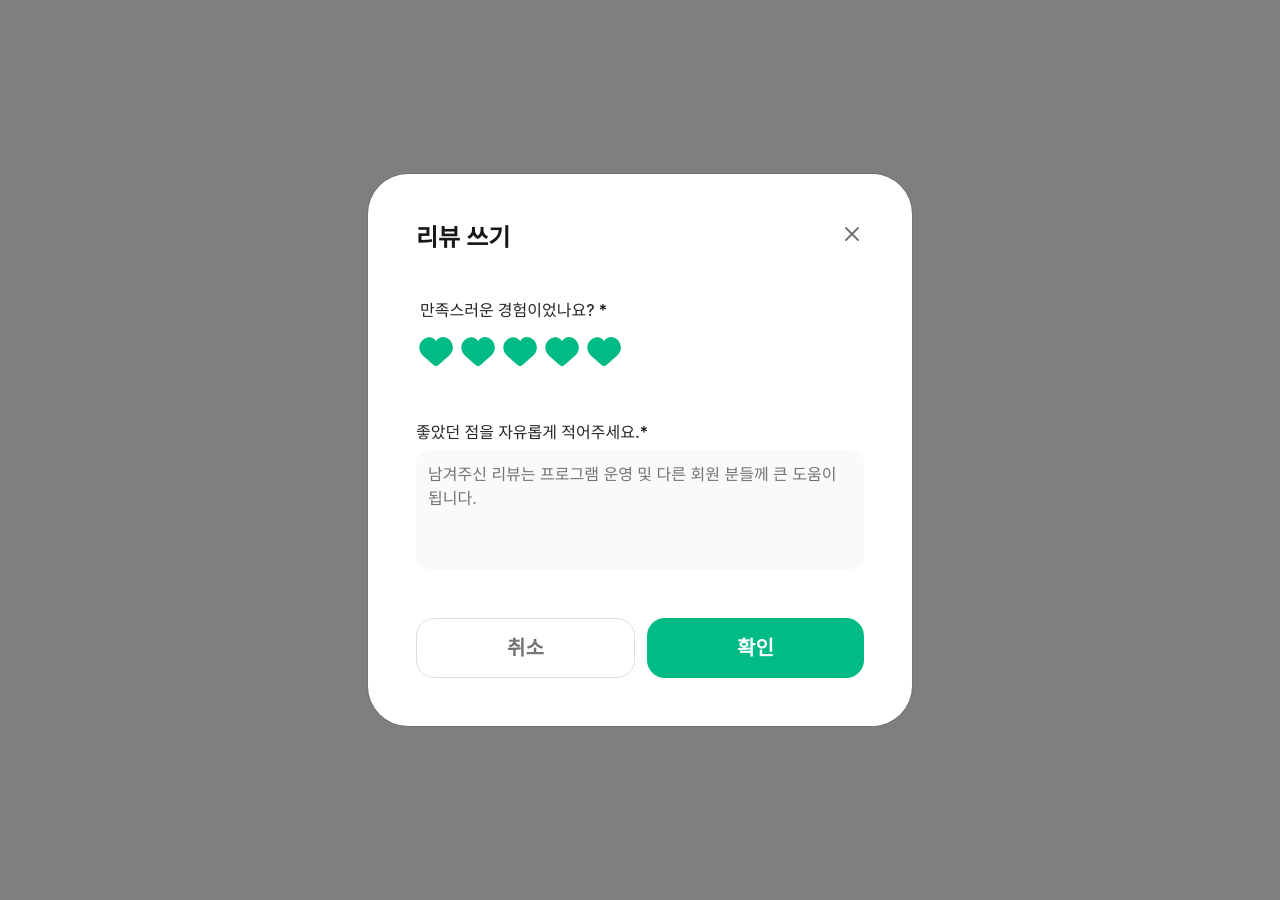
it: WriteReviewModal 컴포넌트 › 리뷰 내용이 10자 미만이면 에러 메시지가 표시되고 제출되지 않는다
Type "짧은글" into the text box at (640, 510), box 416,450 -> 864,570
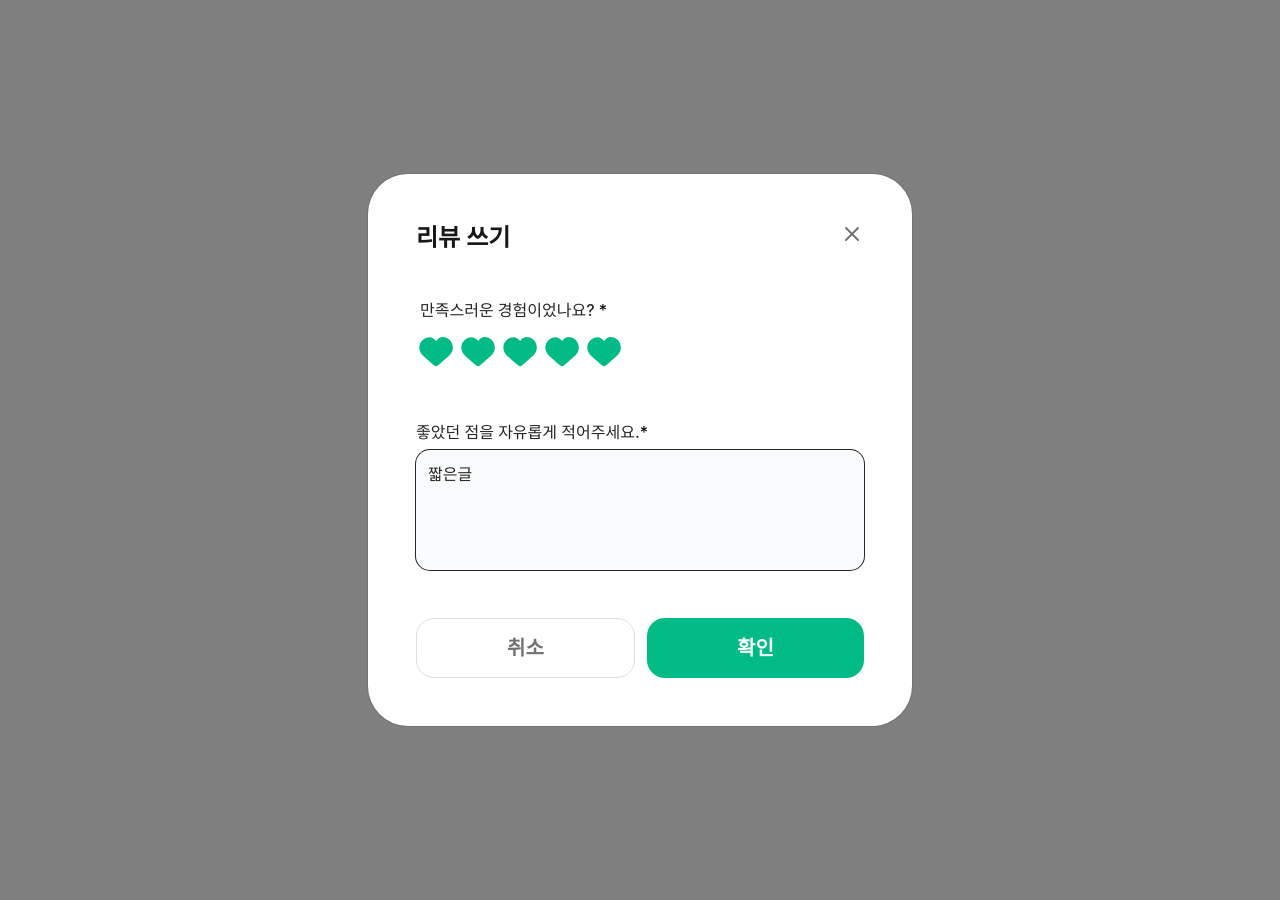
Click the button "확인" at (756, 648), box 647,618 -> 864,678
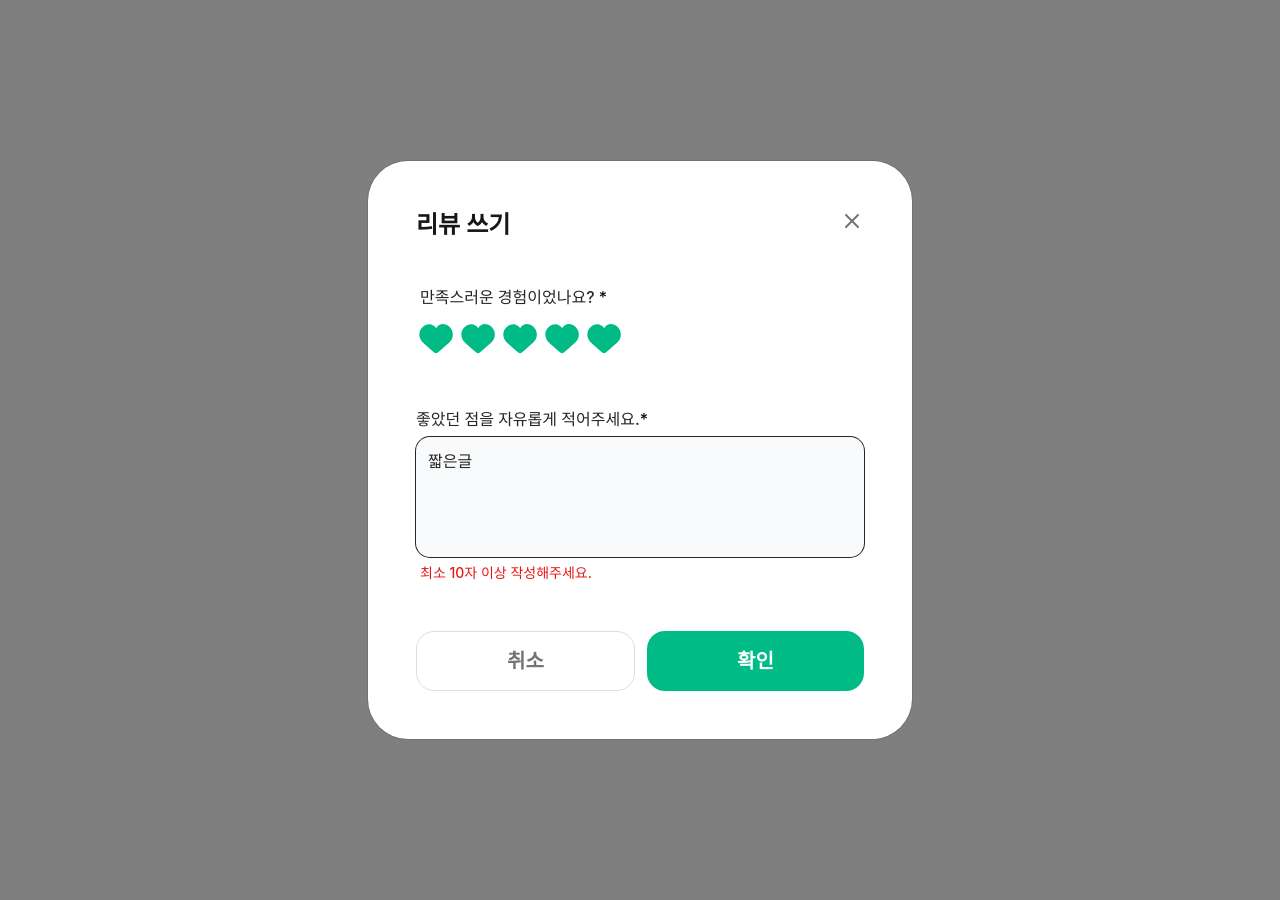
Check: the text "최소 10자 이상 작성해주세요." is shown, box 420,564 -> 592,581
